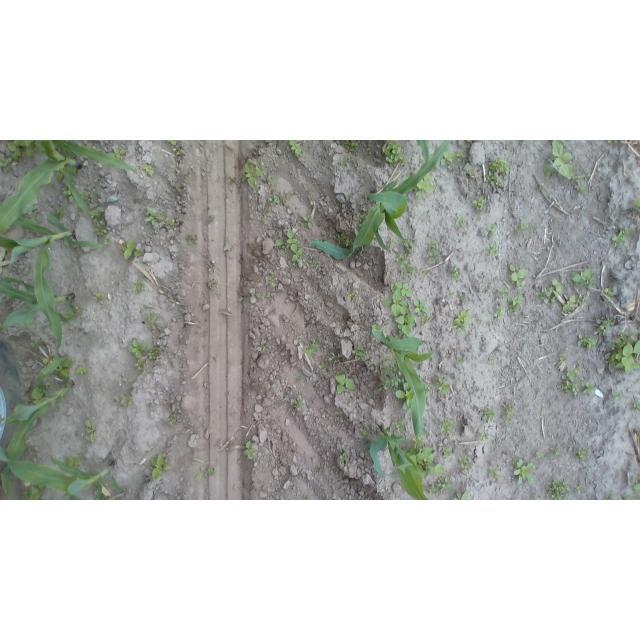Maize: (310, 140, 450, 261), (1, 210, 100, 350), (0, 357, 76, 495), (0, 141, 90, 234), (372, 330, 436, 449), (0, 446, 116, 500), (1, 277, 74, 340), (371, 421, 427, 500), (57, 140, 139, 176), (418, 141, 431, 162)
Weeds: (383, 281, 416, 338), (609, 328, 640, 373), (551, 140, 574, 181), (556, 364, 580, 396), (383, 141, 409, 166), (286, 229, 305, 261), (381, 359, 400, 390), (541, 279, 562, 307), (514, 456, 534, 485), (395, 382, 414, 411), (242, 161, 262, 188), (548, 477, 571, 500), (150, 455, 170, 480), (413, 300, 432, 324), (336, 373, 356, 395), (510, 264, 528, 287), (122, 241, 143, 260), (19, 140, 43, 156), (508, 293, 527, 313), (453, 310, 471, 331), (597, 315, 616, 334), (418, 176, 434, 198), (489, 159, 512, 174), (146, 206, 163, 226), (614, 226, 631, 246), (417, 446, 433, 467), (573, 267, 595, 282), (400, 261, 419, 278), (84, 420, 98, 443), (19, 486, 41, 500), (436, 376, 452, 395), (401, 236, 416, 256), (427, 240, 440, 263), (128, 340, 145, 357), (441, 419, 457, 437), (196, 465, 213, 481), (577, 334, 595, 349), (58, 359, 73, 377), (334, 232, 351, 247), (304, 341, 321, 356), (562, 295, 576, 313), (245, 440, 258, 459), (290, 140, 305, 156), (482, 405, 497, 421), (436, 476, 452, 491), (473, 196, 487, 212), (442, 152, 455, 169), (583, 378, 596, 395), (8, 143, 21, 160), (132, 280, 148, 293), (63, 455, 81, 466), (577, 447, 592, 460), (515, 221, 530, 233), (107, 149, 125, 159), (32, 386, 43, 402), (353, 347, 366, 360), (488, 223, 499, 238), (455, 215, 466, 230), (441, 447, 456, 458), (343, 140, 359, 150), (0, 157, 12, 170), (142, 164, 154, 177), (490, 465, 501, 479), (453, 489, 467, 500), (393, 421, 404, 435), (493, 305, 503, 320), (144, 314, 156, 326), (487, 172, 498, 185), (266, 173, 277, 185), (612, 392, 623, 404), (149, 347, 161, 358), (450, 266, 460, 279), (501, 415, 514, 425), (66, 310, 79, 320), (267, 276, 278, 287), (339, 154, 349, 166), (56, 207, 66, 219), (574, 184, 586, 194), (504, 403, 516, 413), (428, 485, 438, 497), (358, 426, 370, 436), (120, 395, 132, 405), (544, 164, 553, 177), (490, 246, 499, 259), (630, 197, 640, 208), (459, 292, 470, 302), (303, 216, 312, 228), (634, 475, 640, 492), (413, 437, 423, 447), (558, 353, 568, 363), (353, 153, 364, 162), (285, 190, 296, 199), (322, 360, 331, 371), (294, 398, 303, 409), (358, 213, 365, 227), (76, 369, 89, 376), (136, 360, 145, 370), (498, 288, 507, 298), (605, 289, 615, 298), (74, 304, 84, 313), (94, 227, 105, 235), (172, 146, 181, 155), (481, 434, 491, 442), (275, 239, 285, 247), (461, 459, 469, 469), (456, 151, 464, 161), (68, 164, 76, 174), (90, 210, 99, 218), (269, 196, 279, 203), (539, 181, 546, 191), (341, 453, 348, 463), (56, 170, 63, 180), (61, 189, 71, 196), (309, 259, 317, 267), (396, 254, 404, 262), (96, 293, 104, 301), (349, 291, 356, 300), (81, 193, 91, 199), (423, 386, 431, 393), (580, 298, 586, 307), (372, 325, 382, 330), (577, 485, 582, 495), (458, 359, 465, 366), (189, 237, 196, 244), (487, 358, 493, 366), (168, 140, 177, 145), (609, 140, 620, 144), (553, 448, 560, 454), (536, 453, 542, 460), (169, 415, 176, 421), (589, 279, 595, 285), (448, 290, 454, 296), (577, 177, 584, 182), (164, 219, 169, 226), (173, 220, 178, 227), (105, 238, 110, 245), (518, 190, 524, 195), (467, 141, 473, 144)
